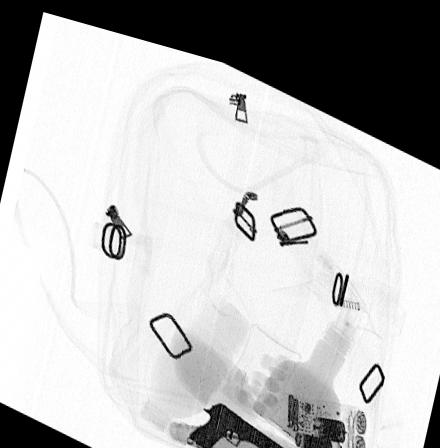Gun: (184, 388, 292, 448)
